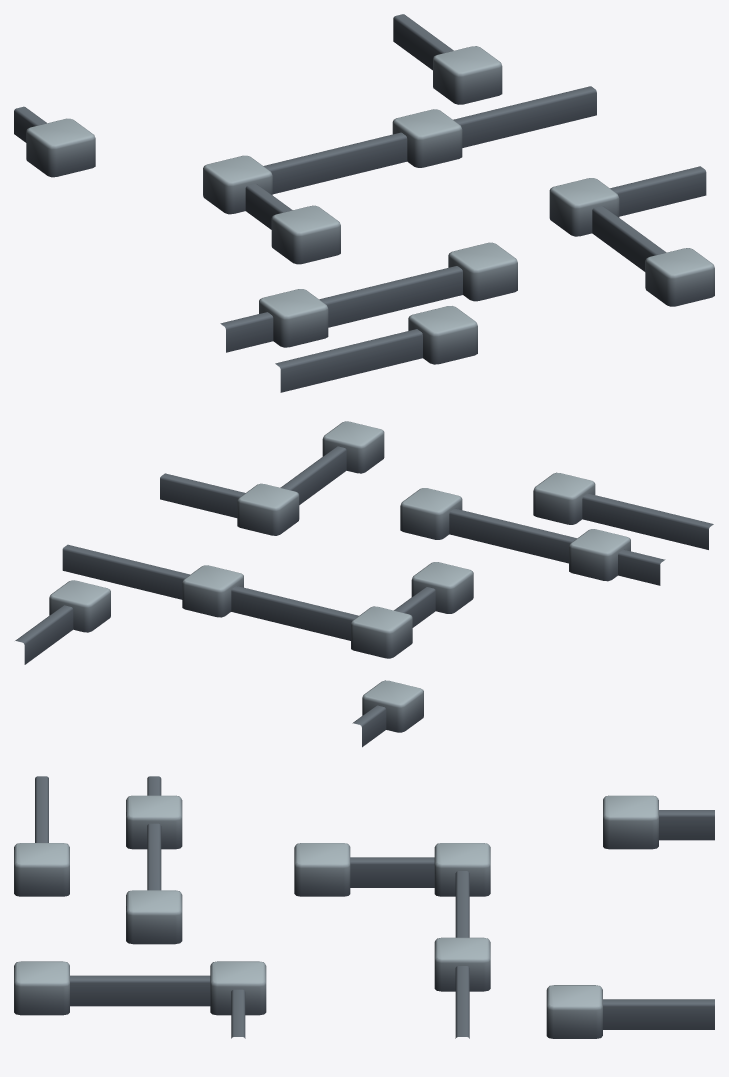
The model's file is turret-layout.glb.
The picture shows the model from 3 angles, top to bottom: view 1: azimuth 30°, elevation 25°; view 2: azimuth 150°, elevation 25°; view 3: azimuth 270°, elevation 25°; orthographic projection. The views are drawn at different scales.
Parts seen in each view (by area): view 1: turret_layout; view 2: turret_layout; view 3: turret_layout.
Boxes of the visible parts, <box> form: turret_layout: <box>14,14,714,392</box>; turret_layout: <box>15,421,713,747</box>; turret_layout: <box>14,776,714,1038</box>.
Size of what is drawn, in the model's own units: 44 by 2.47 by 50.
Materials: 1 (1 with a texture image).
